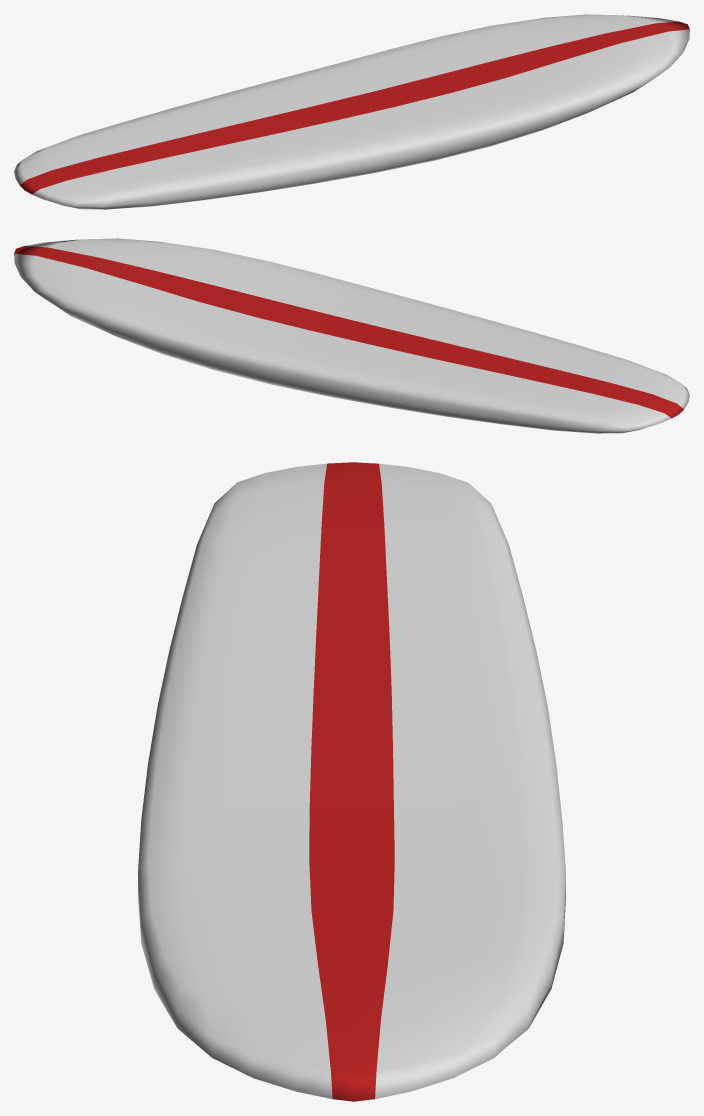
The model's file is mod_surfboard_v1.fbx.
The picture shows the model from 3 angles, top to bottom: view 1: azimuth 30°, elevation 25°; view 2: azimuth 150°, elevation 25°; view 3: azimuth 270°, elevation 25°; orthographic projection. The views are drawn at different scales.
Visible parts, largest first — view 1: pCube1; view 2: pCube1; view 3: pCube1.
Part boxes in pixels (bbox=[...]): pCube1: bbox=[14, 14, 689, 209]; pCube1: bbox=[14, 238, 689, 433]; pCube1: bbox=[138, 462, 565, 1101].
Size of the model in its own units: 0.8693 by 0.0395 by 0.2429.
